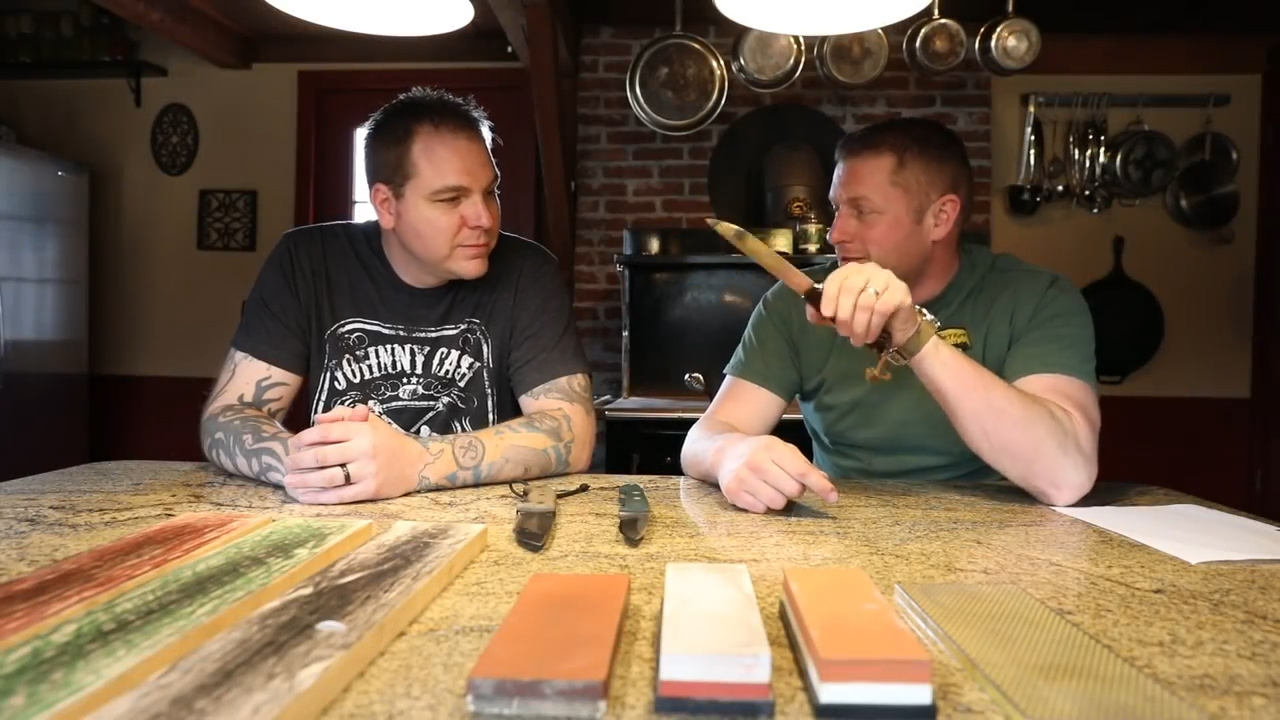knife: (688, 204, 899, 344)
